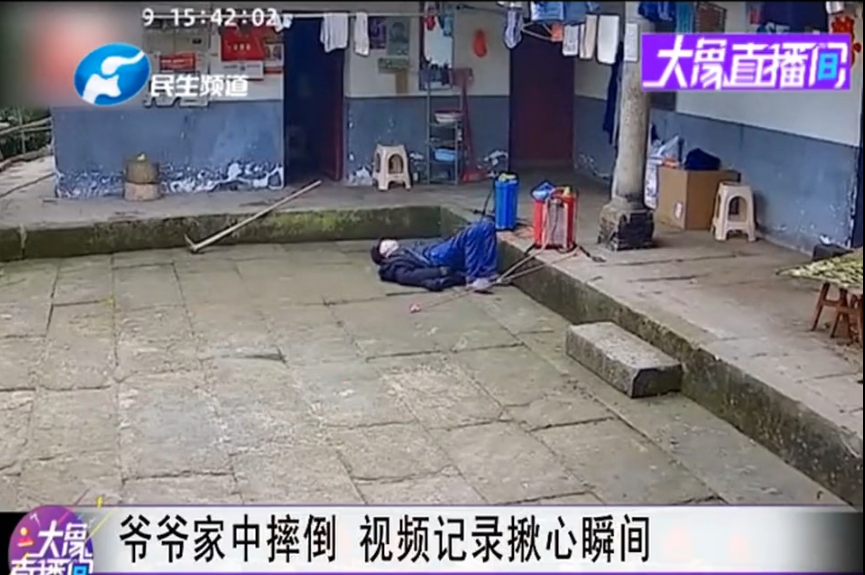fall: (368, 216, 509, 294)
